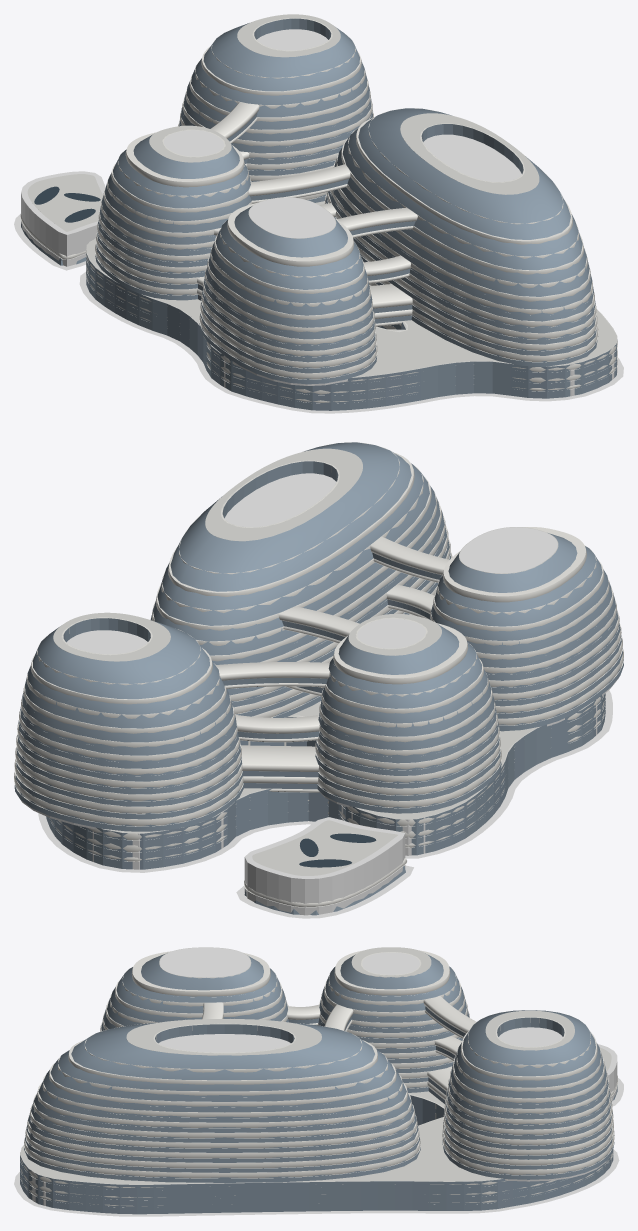
File: galaxysoho.glb
The picture shows the model from 3 angles, top to bottom: view 1: azimuth 30°, elevation 25°; view 2: azimuth 150°, elevation 25°; view 3: azimuth 270°, elevation 25°; orthographic projection. The views are drawn at different scales.
Parts seen in each view (by area): view 1: Massing, GalaxySOHO, COLMESH_walls, COL_towerSW, COL_towerSE, CLEAR_main, COL_towerW, COL_towerNE; view 2: Massing, GalaxySOHO, COLMESH_walls, COL_towerSE, COL_towerSW, CLEAR_main, COL_towerW, COL_towerNE, CLEAR_pavilion, FOOTPRINT_main; view 3: Massing, GalaxySOHO, COL_towerSW, CLEAR_main, COL_towerSE, COL_towerNE, COL_towerW, COLMESH_walls, FOOTPRINT_main.
Part boxes in pixels (bbox=[...]): Massing: bbox=[21, 18, 617, 410]; GalaxySOHO: bbox=[20, 14, 617, 403]; COLMESH_walls: bbox=[21, 171, 617, 396]; COL_towerSW: bbox=[203, 197, 347, 385]; COL_towerSE: bbox=[423, 134, 521, 182]; CLEAR_main: bbox=[79, 272, 623, 413]; COL_towerW: bbox=[163, 130, 224, 156]; COL_towerNE: bbox=[257, 29, 328, 50]; Massing: bbox=[14, 442, 623, 915]; GalaxySOHO: bbox=[14, 442, 623, 907]; COLMESH_walls: bbox=[92, 699, 597, 915]; COL_towerSE: bbox=[224, 473, 336, 527]; COL_towerSW: bbox=[459, 527, 618, 726]; CLEAR_main: bbox=[38, 690, 612, 872]; COL_towerW: bbox=[319, 618, 425, 807]; COL_towerNE: bbox=[17, 630, 147, 828]; CLEAR_pavilion: bbox=[236, 865, 413, 918]; FOOTPRINT_main: bbox=[54, 706, 607, 870]; Massing: bbox=[20, 953, 617, 1214]; GalaxySOHO: bbox=[20, 947, 617, 1207]; COL_towerSW: bbox=[160, 947, 250, 977]; CLEAR_main: bbox=[14, 1149, 619, 1216]; COL_towerSE: bbox=[158, 1034, 290, 1052]; COL_towerNE: bbox=[499, 1027, 611, 1181]; COL_towerW: bbox=[362, 952, 419, 974]; COLMESH_walls: bbox=[20, 1044, 617, 1205]; FOOTPRINT_main: bbox=[25, 1154, 613, 1214].
Size of the model in its own units: 153 by 67.05 by 253.
